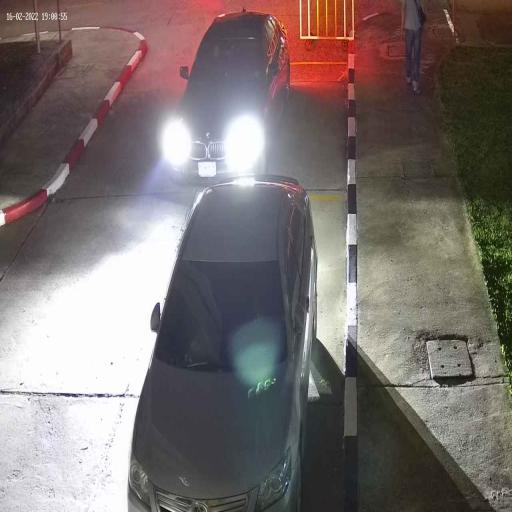car: (125, 173, 318, 512), (166, 8, 292, 185)
